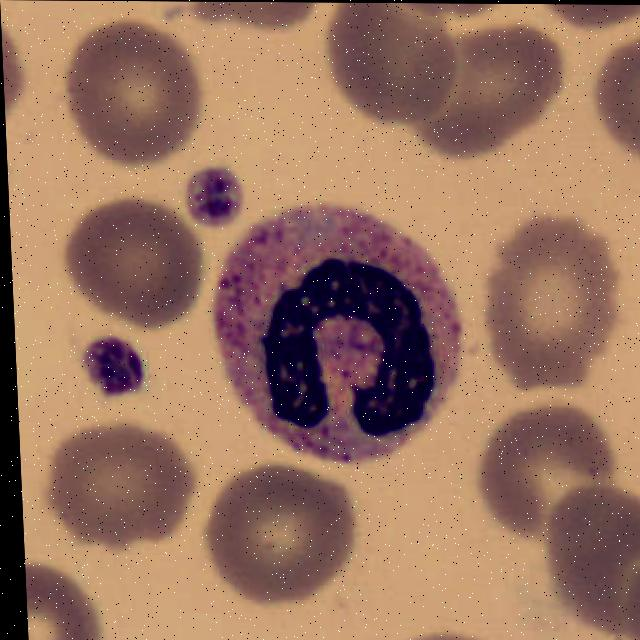neutrophil: (202, 200, 472, 464)
platelets: (73, 338, 155, 397), (182, 162, 254, 227)
rbc: (202, 466, 357, 596), (495, 212, 609, 380), (63, 22, 194, 162), (67, 198, 203, 327), (435, 27, 558, 162), (53, 430, 189, 549), (482, 405, 615, 526), (328, 3, 452, 115), (543, 490, 640, 628), (25, 561, 113, 640), (589, 37, 640, 157), (185, 1, 312, 35), (1, 14, 26, 131), (547, 4, 640, 29), (619, 543, 640, 640), (385, 632, 509, 640)
